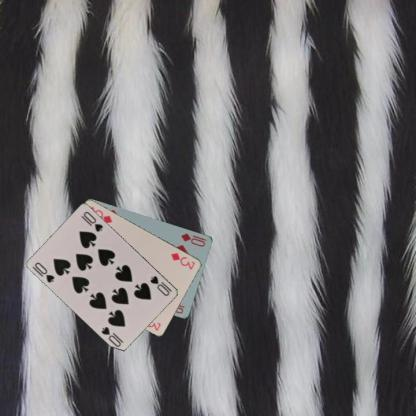10d: (179, 230, 208, 248)
10s: (148, 273, 173, 298), (32, 260, 56, 284)
3d: (169, 250, 196, 271)
